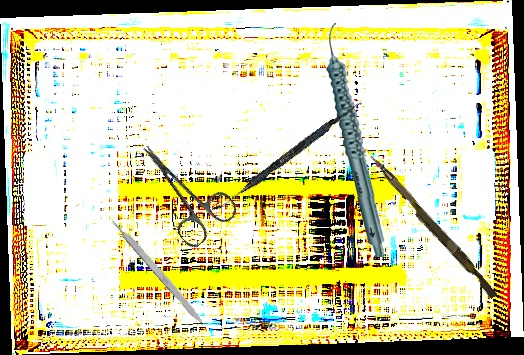Handpiece: (322, 22, 389, 258)
Iris Scissors: (122, 125, 242, 252)
Pusher: (363, 153, 502, 300)
Scalpel Handle: (109, 216, 208, 327)
Spatula Surgical: (211, 96, 363, 218)
